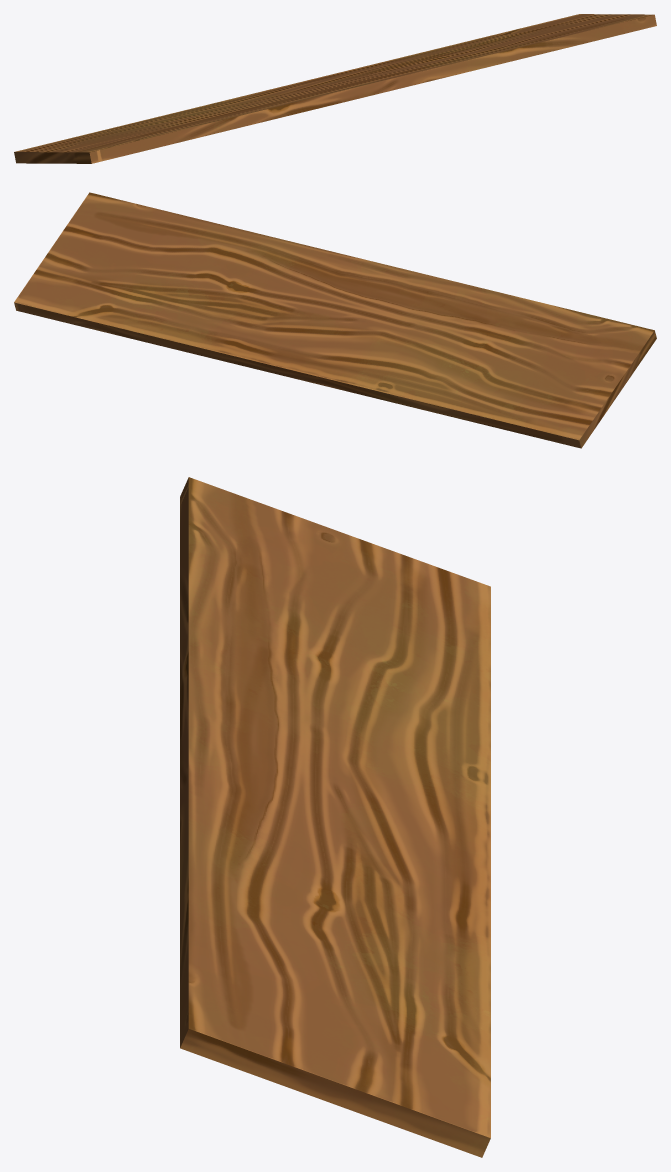
3 renders of one model, top to bottom at view 1: azimuth 30°, elevation 25°; view 2: azimuth 150°, elevation 25°; view 3: azimuth 270°, elevation 25°, orthographic. The views are drawn at different scales.
Parts seen in each view (by area): view 1: Cube.755; view 2: Cube.755; view 3: Cube.755.
Part boxes in pixels (left/top/right/bottom): Cube.755: left=14, top=14, right=656, bottom=163; Cube.755: left=14, top=192, right=656, bottom=448; Cube.755: left=180, top=477, right=490, bottom=1157.
Bounding box in the file's own units: 855 × 93.45 × 204.
1 material, 1 textured.
